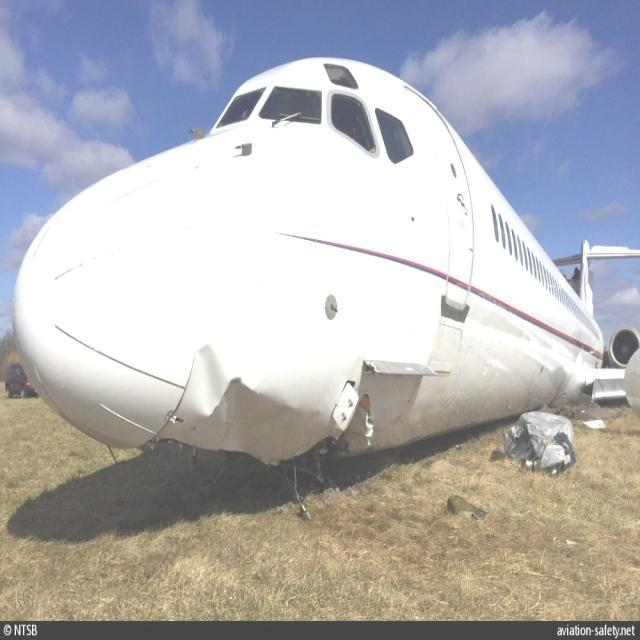dent: (215, 386, 321, 456), (190, 337, 232, 423)
